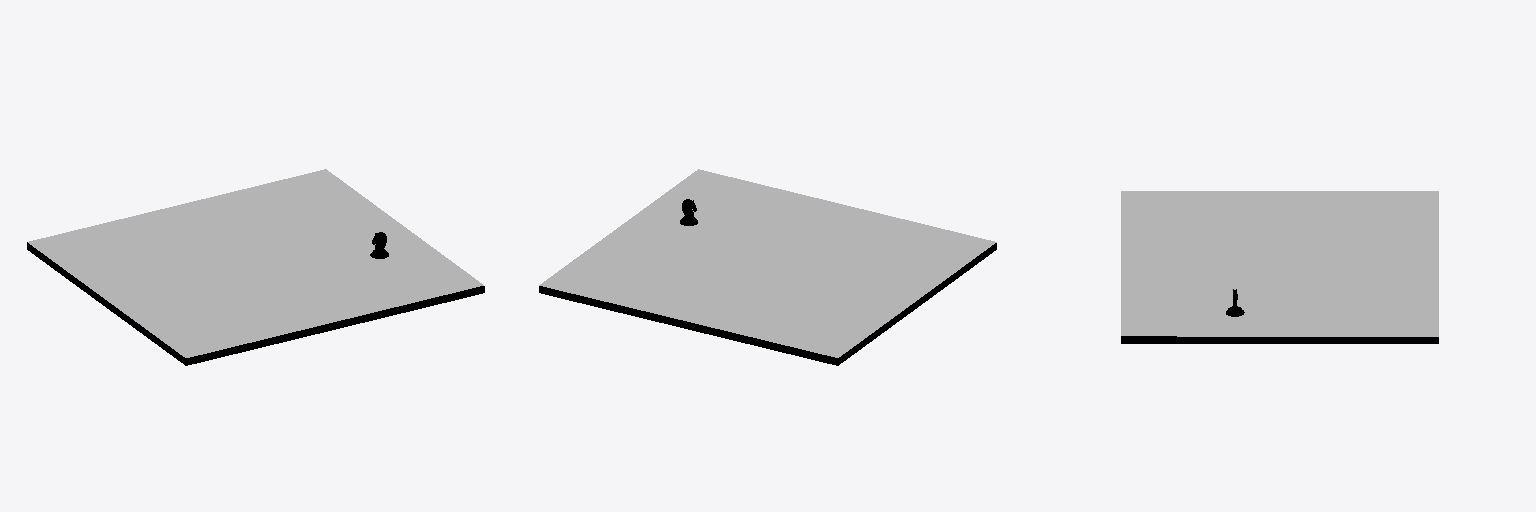
Rendered from finalhorsenear.obj.
3 views of the same model, side by side, from view 1: azimuth 30°, elevation 25°; view 2: azimuth 150°, elevation 25°; view 3: azimuth 270°, elevation 25° (orthographic).
Parts seen in each view (by area): view 1: Plane.002; view 2: Plane.002; view 3: Plane.002.
Boxes of the visible parts, x1=… form: Plane.002: x1=27, y1=169, x2=484, y2=365; Plane.002: x1=539, y1=169, x2=996, y2=365; Plane.002: x1=1121, y1=191, x2=1438, y2=343.
Size of the model in its own units: 9.71 by 0.9517 by 8.94.